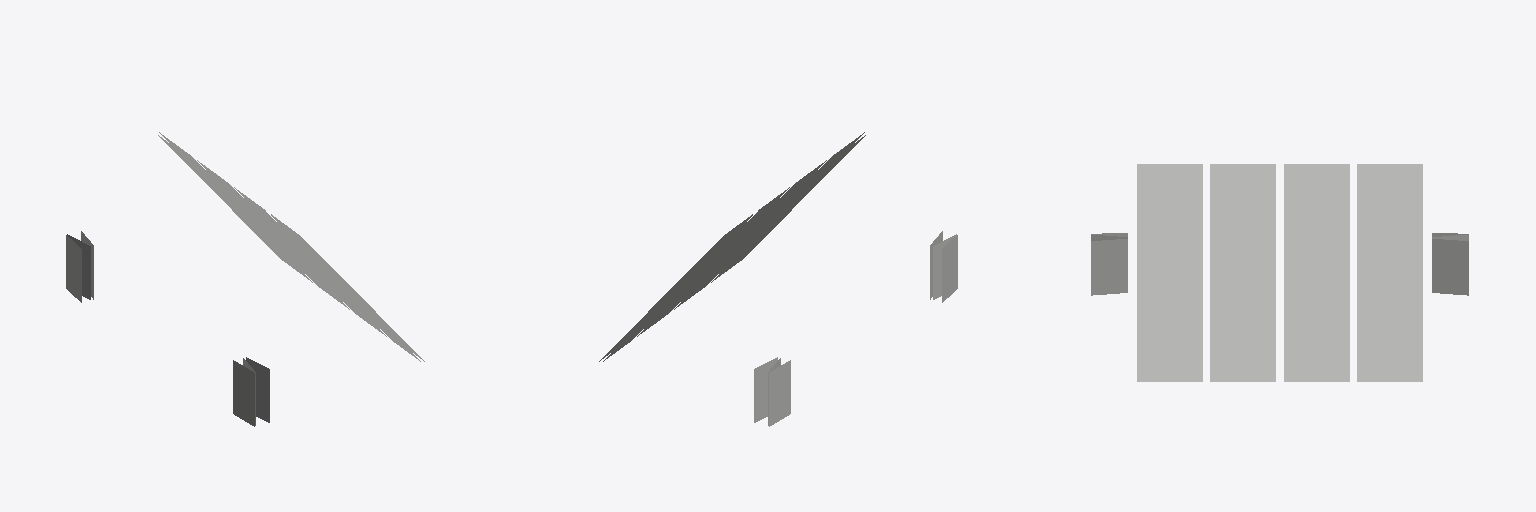
The model's file is studioGlassClearOBJ.obj.
3 views of the same model, side by side, from view 1: azimuth 30°, elevation 25°; view 2: azimuth 150°, elevation 25°; view 3: azimuth 270°, elevation 25° (orthographic).
Visible parts, largest first — view 1: studio_studio_Glass_(Clear); view 2: studio_studio_Glass_(Clear); view 3: studio_studio_Glass_(Clear).
Boxes of the visible parts, x1,y1,x2,y2 form: studio_studio_Glass_(Clear): [66, 132, 424, 426]; studio_studio_Glass_(Clear): [599, 132, 957, 426]; studio_studio_Glass_(Clear): [1091, 164, 1468, 381].
Size of the model in its own units: 9.18 by 7.05 by 15.27.